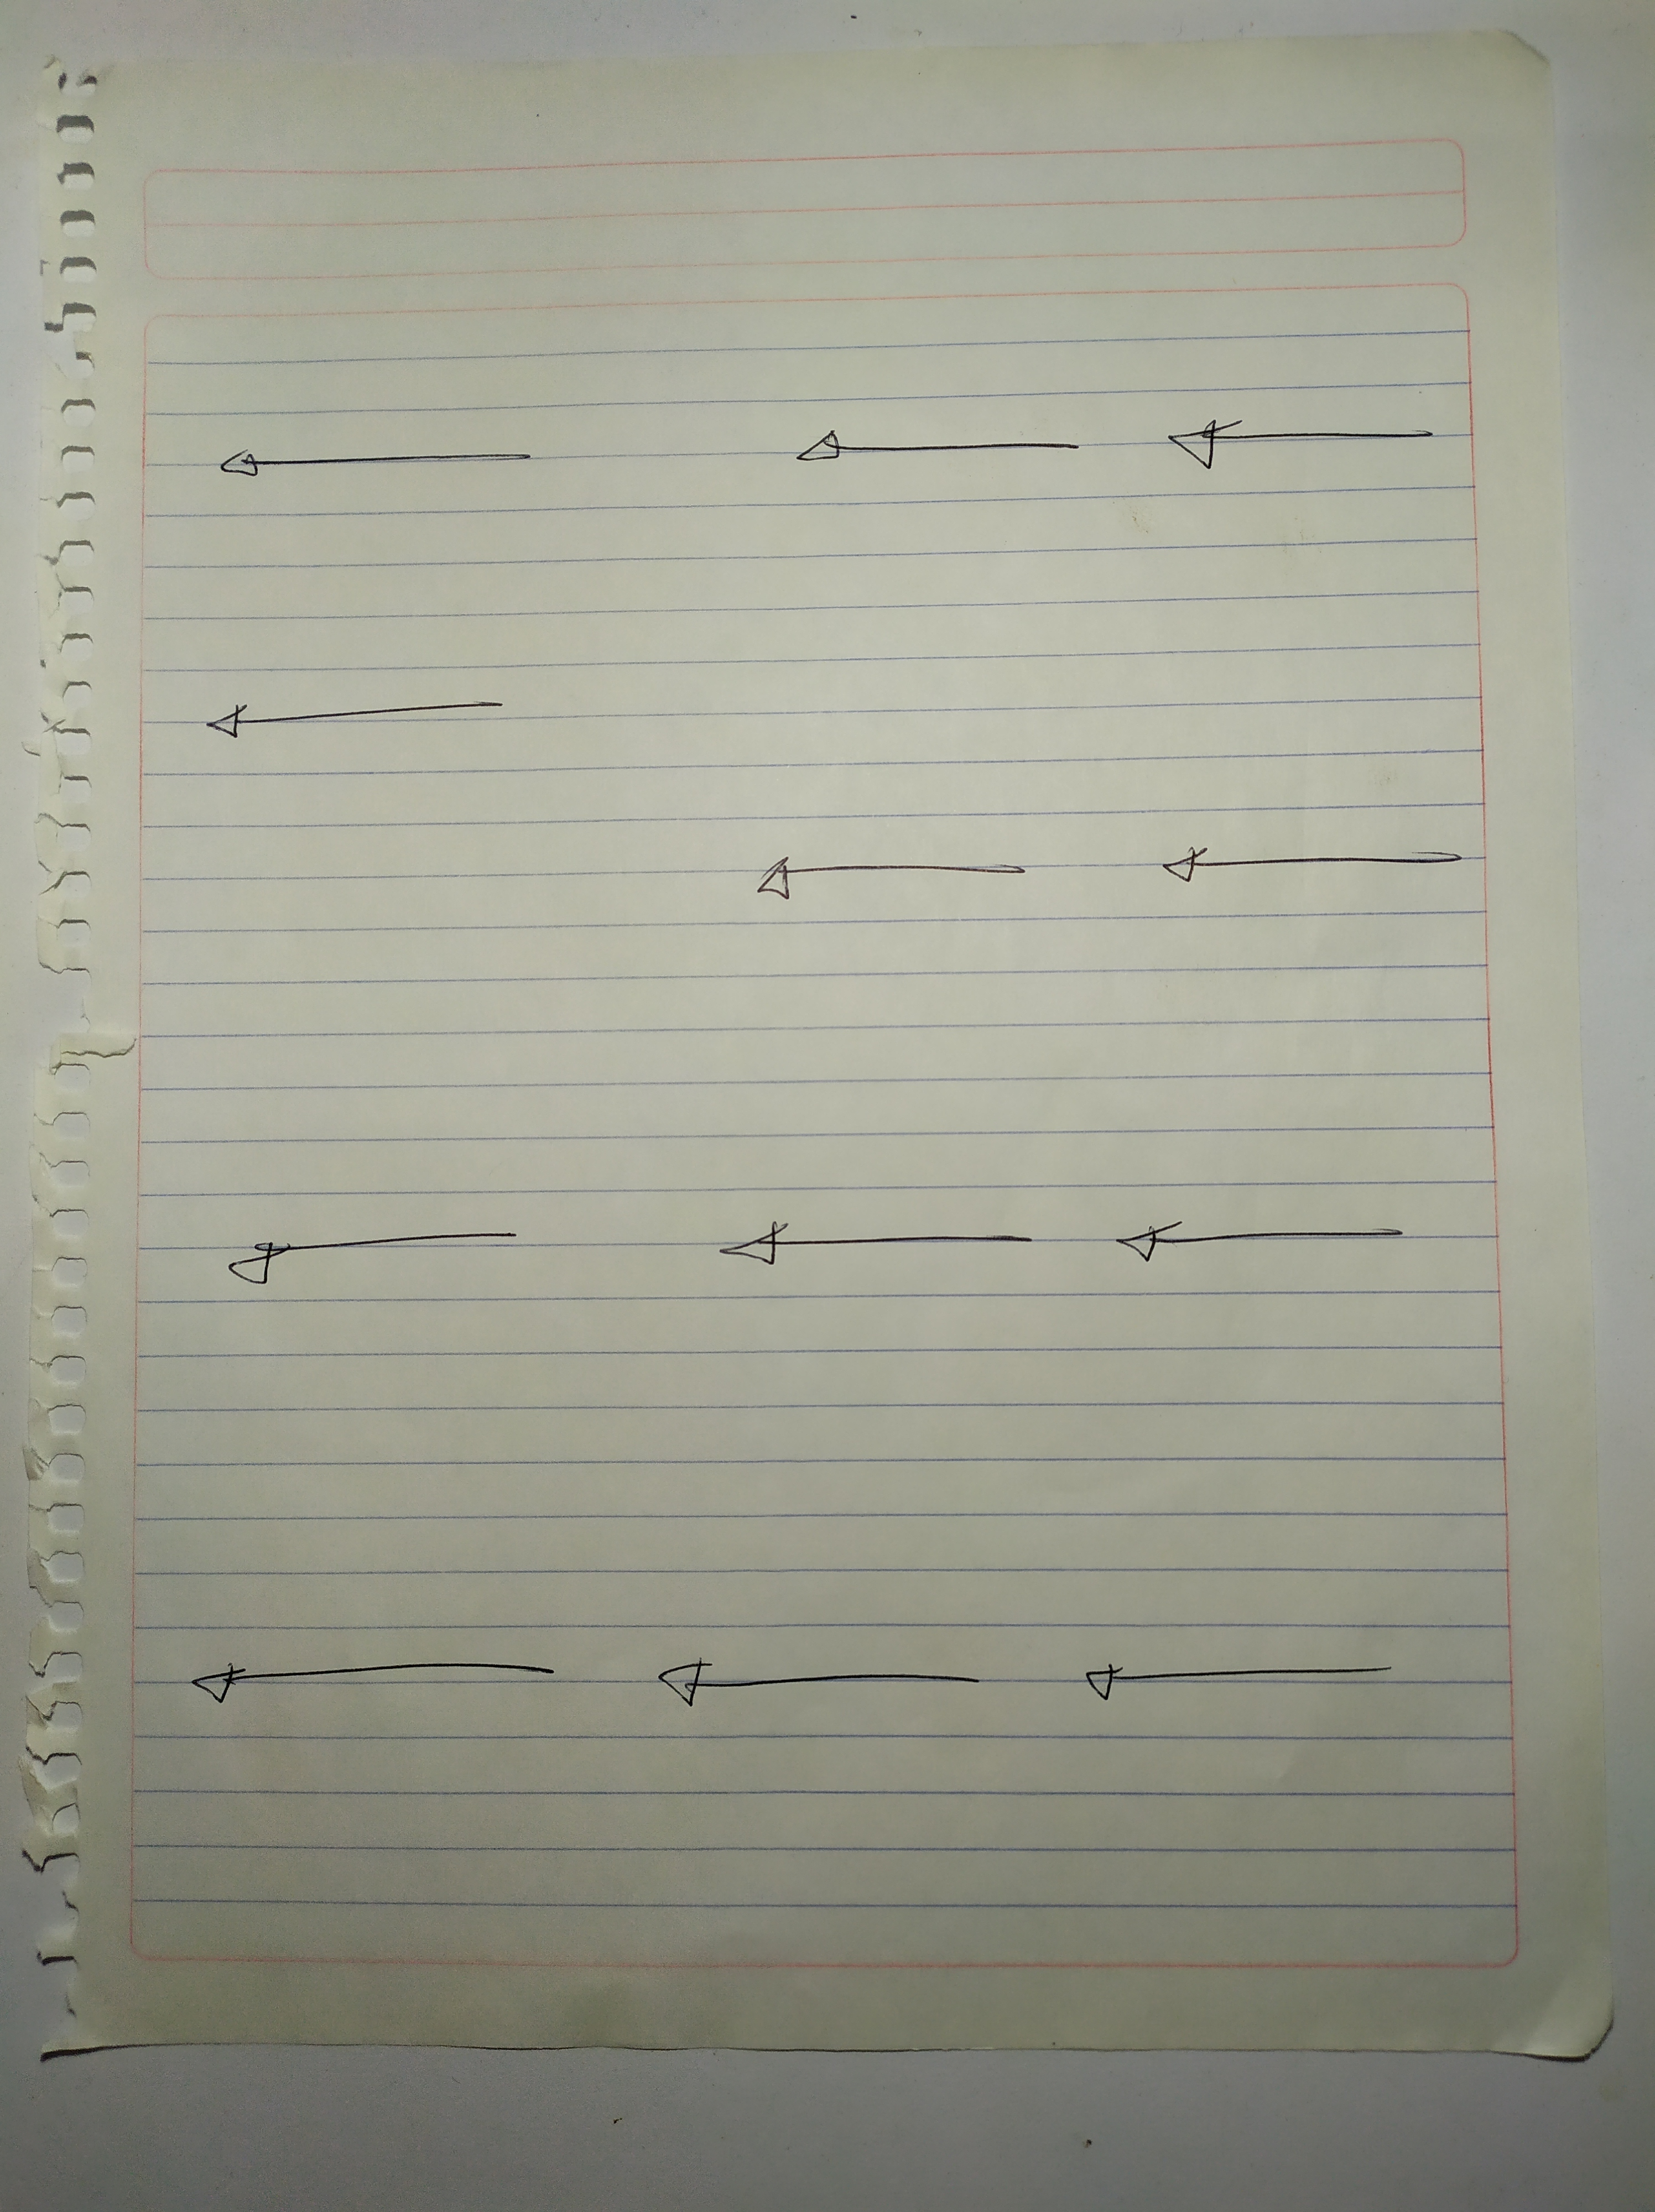arrow_line_left: (169, 1621, 582, 1734), (701, 1195, 1074, 1296), (1127, 815, 1509, 907), (1097, 1192, 1443, 1293), (725, 829, 1076, 928), (198, 1208, 558, 1301), (648, 1635, 1005, 1724), (1067, 1639, 1424, 1724), (1139, 405, 1466, 487), (184, 426, 562, 488), (184, 686, 530, 751), (767, 426, 1104, 476)
